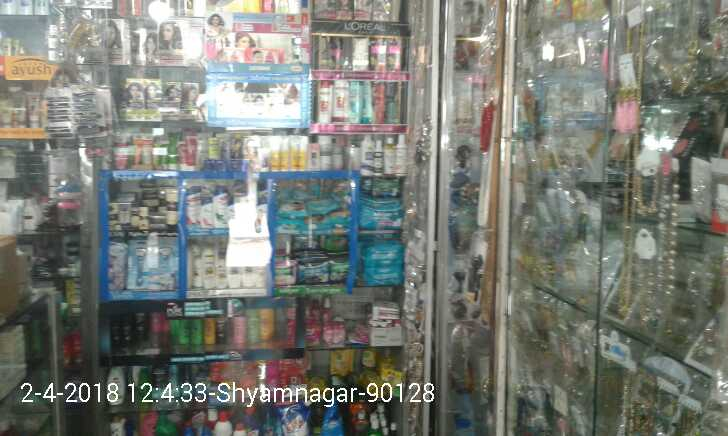venus: (127, 238, 154, 287), (157, 238, 176, 290), (111, 239, 123, 288)
